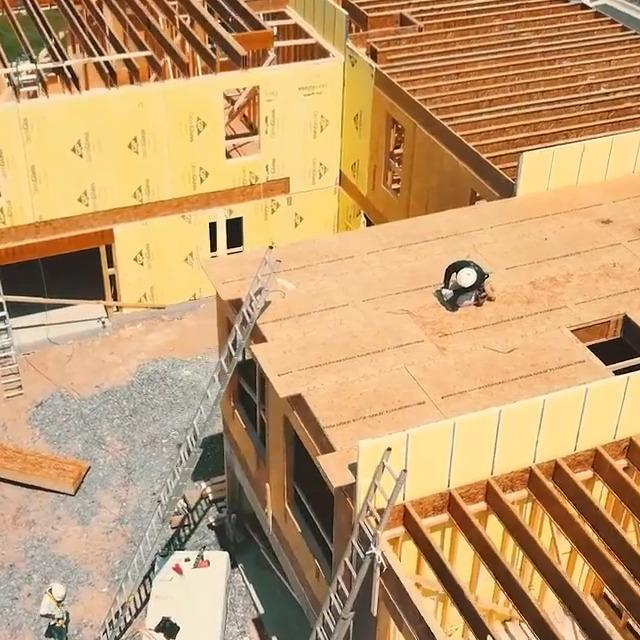Gloves: (442, 288, 450, 296)
Hardhat: (457, 267, 478, 288), (52, 584, 66, 601)
Ladder: (91, 242, 280, 640), (289, 447, 406, 640), (0, 147, 25, 401)
NO-Safety Vest: (461, 261, 485, 286)
Person: (443, 260, 488, 309), (39, 583, 72, 640)
Safety Vest: (43, 588, 66, 625)
